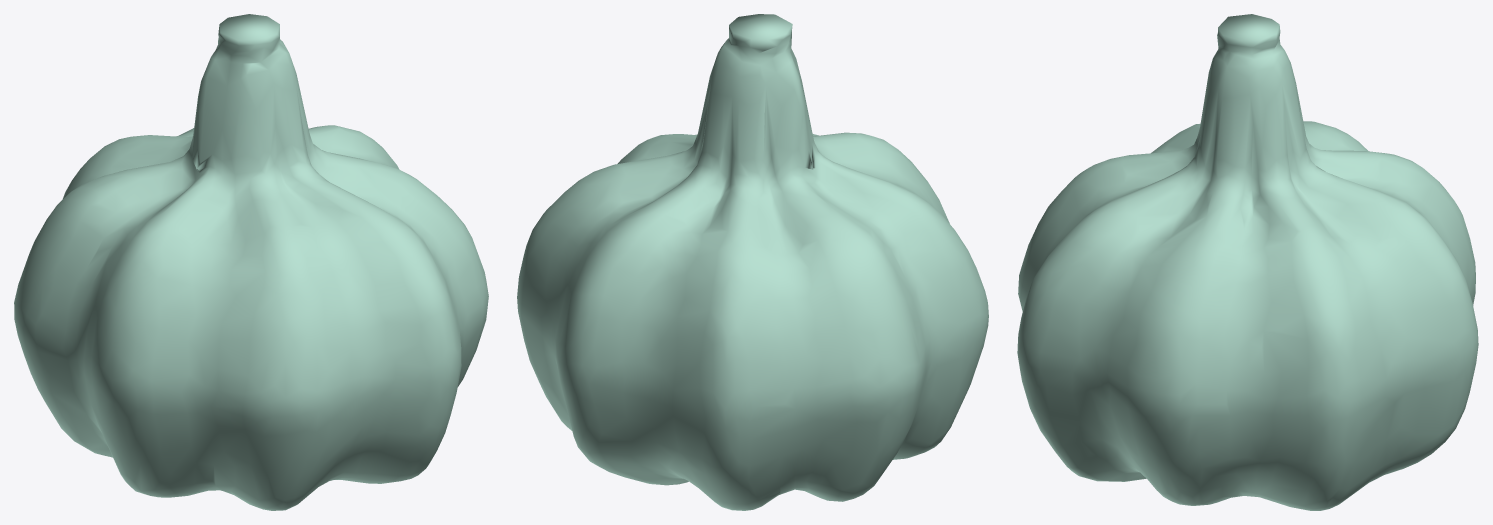
Rendered from suan.fbx.
3 views of the same model, side by side, from view 1: azimuth 30°, elevation 25°; view 2: azimuth 150°, elevation 25°; view 3: azimuth 270°, elevation 25° (orthographic).
Parts seen in each view (by area): view 1: Box034; view 2: Box034; view 3: Box034.
Boxes of the visible parts, left/top/right/bottom form: Box034: left=14, top=14, right=488, bottom=510; Box034: left=517, top=14, right=988, bottom=510; Box034: left=1017, top=14, right=1478, bottom=510.
Bounding box in the file's own units: 68.28 × 73.81 × 69.86.
